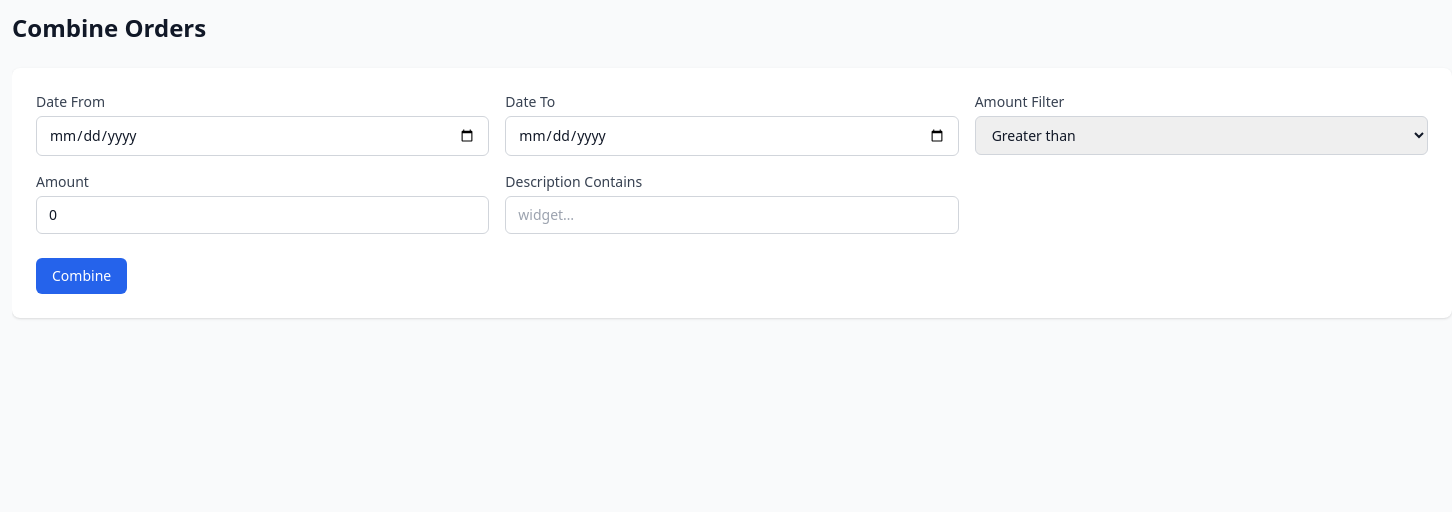
Scenario: Combine › shows Export CSV link after results load
The image size is (1452, 512).
Click the button "Combine".
click(82, 276)  # box [36,258,127,294]
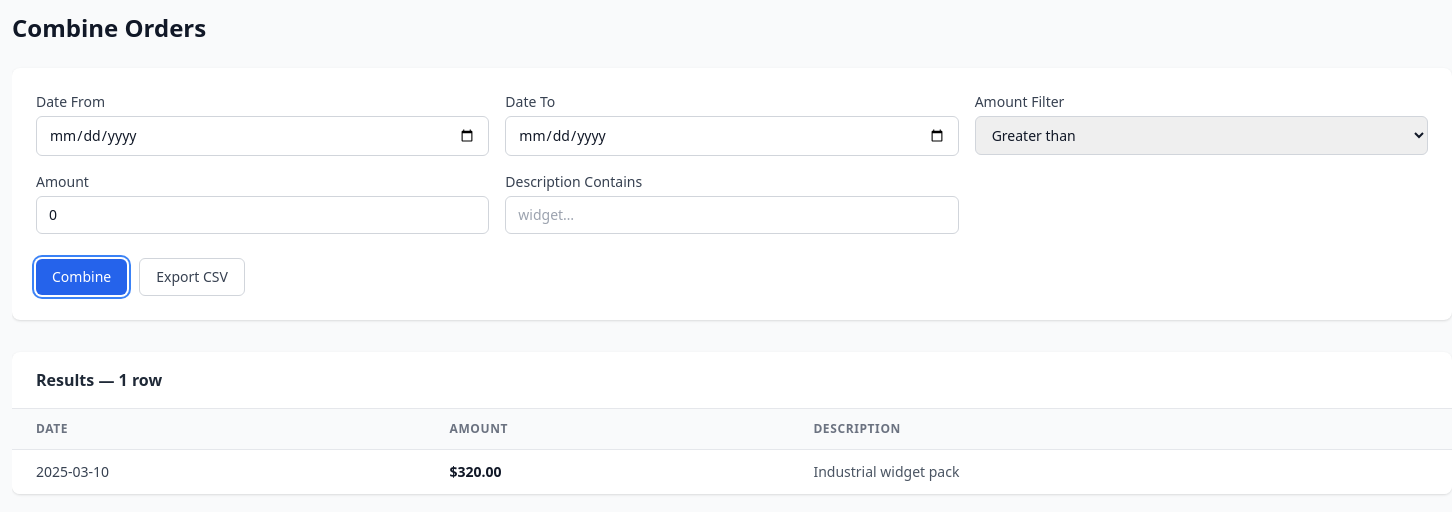
Expected: the link "Export CSV" is shown, [139,258,245,296]
